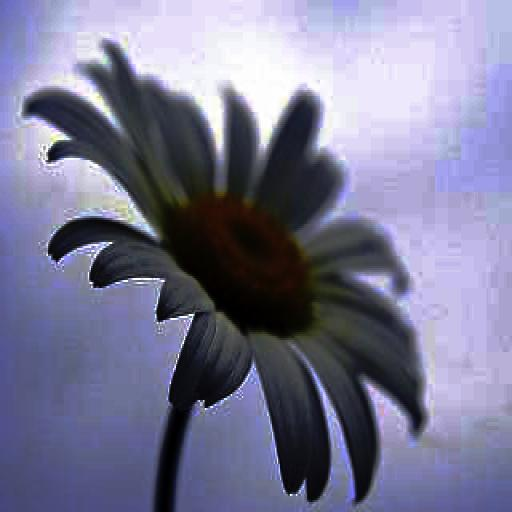daisy: (32, 72, 422, 452)
